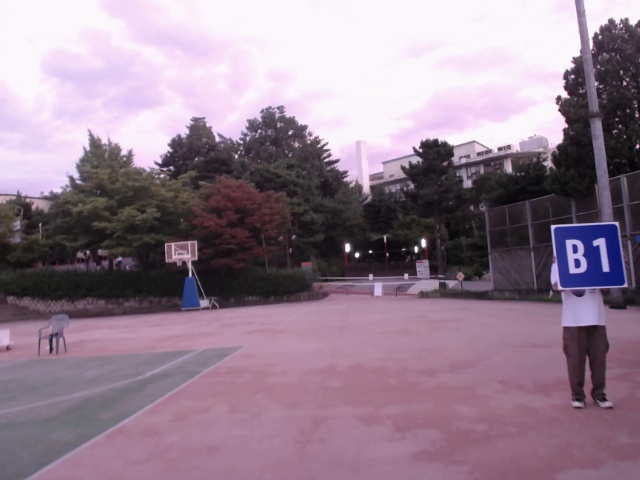delivery_b1: (553, 223, 628, 290)
